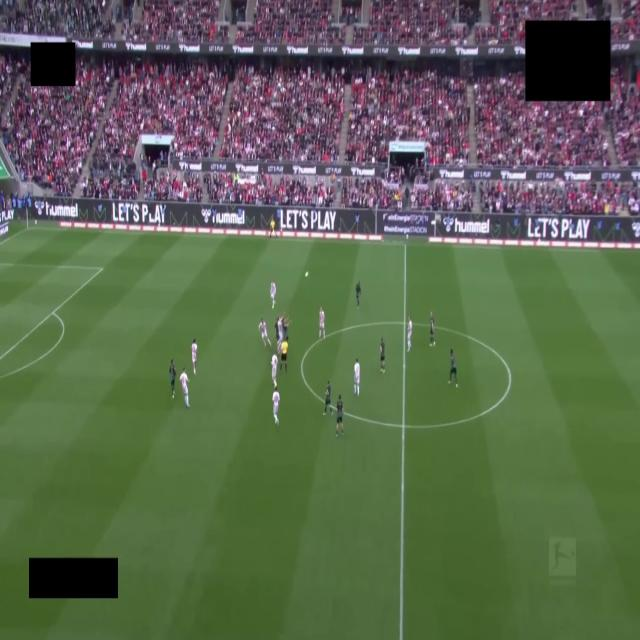ball: (305, 272, 308, 277)
player: (180, 368, 189, 407), (259, 320, 271, 346), (449, 349, 457, 387), (336, 395, 343, 437), (324, 381, 332, 415), (169, 360, 176, 398), (272, 387, 279, 424), (276, 317, 283, 352), (354, 359, 360, 395), (271, 354, 277, 387), (319, 307, 325, 338), (192, 339, 197, 375), (380, 338, 385, 373), (430, 312, 435, 346), (407, 317, 412, 351), (270, 281, 276, 308), (356, 280, 361, 308), (274, 317, 279, 343)
referee: (280, 340, 287, 372)
